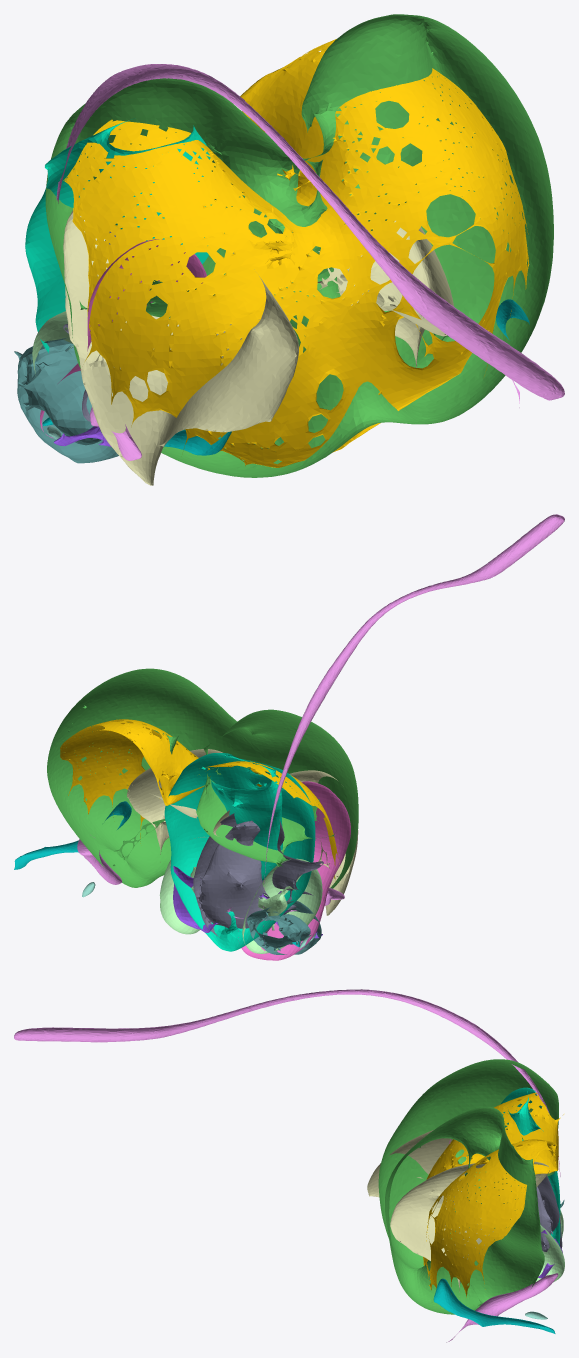
3 views of the same model, one above another, from view 1: azimuth 30°, elevation 25°; view 2: azimuth 150°, elevation 25°; view 3: azimuth 270°, elevation 25° (orthographic). The views are drawn at different scales.
Parts seen in each view (by area): view 1: EMAPA17701, EMAPA16846, EMAPA16728, EMAPA17577, EMAPA18321, EMAPA16974, EMAPA19106, EMAPA17185, EMAPA17373, EMAPA19143; view 2: EMAPA16846, EMAPA16974, EMAPA17701, EMAPA17021, EMAPA17577, EMAPA17185, EMAPA16728, EMAPA17373, EMAPA18321, EMAPA19106, EMAPA19143, EMAPA17503; view 3: EMAPA16846, EMAPA17701, EMAPA17577, EMAPA16728, EMAPA19106, EMAPA19143, EMAPA16974, EMAPA17021, EMAPA17373.
Part boxes in pixels (x1=…): EMAPA17701: x1=63, y1=39, x2=529, y2=467; EMAPA16846: x1=45, y1=14, x2=553, y2=477; EMAPA16728: x1=63, y1=210, x2=453, y2=485; EMAPA17577: x1=56, y1=64, x2=564, y2=400; EMAPA18321: x1=14, y1=338, x2=118, y2=463; EMAPA16974: x1=25, y1=118, x2=211, y2=353; EMAPA19106: x1=42, y1=299, x2=529, y2=455; EMAPA17185: x1=40, y1=239, x2=206, y2=438; EMAPA17373: x1=32, y1=311, x2=73, y2=373; EMAPA19143: x1=90, y1=380, x2=519, y2=460; EMAPA16846: x1=47, y1=668, x2=358, y2=888; EMAPA16974: x1=164, y1=753, x2=315, y2=951; EMAPA17701: x1=60, y1=719, x2=340, y2=881; EMAPA17021: x1=193, y1=813, x2=323, y2=937; EMAPA17577: x1=263, y1=514, x2=564, y2=943; EMAPA17185: x1=238, y1=781, x2=350, y2=960; EMAPA16728: x1=127, y1=749, x2=358, y2=915; EMAPA17373: x1=159, y1=836, x2=322, y2=953; EMAPA18321: x1=247, y1=901, x2=321, y2=954; EMAPA19106: x1=14, y1=801, x2=300, y2=947; EMAPA19143: x1=77, y1=837, x2=344, y2=918; EMAPA17503: x1=173, y1=866, x2=322, y2=938; EMAPA16846: x1=378, y1=1059, x2=558, y2=1314; EMAPA17701: x1=423, y1=1092, x2=563, y2=1297; EMAPA17577: x1=14, y1=989, x2=560, y2=1176; EMAPA16728: x1=367, y1=1130, x2=549, y2=1296; EMAPA19106: x1=433, y1=1278, x2=555, y2=1333; EMAPA19143: x1=446, y1=1273, x2=558, y2=1342; EMAPA16974: x1=500, y1=1087, x2=560, y2=1246; EMAPA17021: x1=536, y1=1175, x2=562, y2=1251; EMAPA17373: x1=536, y1=1210, x2=564, y2=1282.
Bounding box in the file's own units: 5822 × 5410 × 10417.
